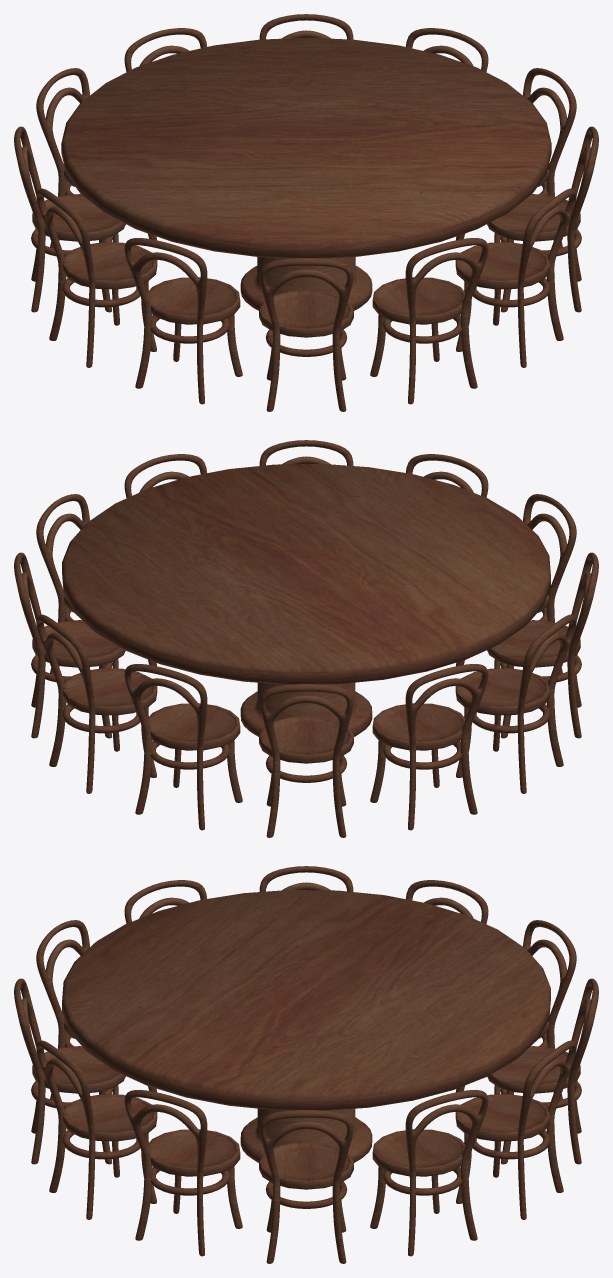
File: FullTable.fbx
The picture shows the model from 3 angles, top to bottom: view 1: azimuth 30°, elevation 25°; view 2: azimuth 150°, elevation 25°; view 3: azimuth 270°, elevation 25°; orthographic projection.
Parts seen in each view (by area): view 1: FullTable; view 2: FullTable; view 3: FullTable.
Boxes of the visible parts, x1=… form: FullTable: x1=14, y1=14, x2=598, y2=411; FullTable: x1=14, y1=440, x2=598, y2=837; FullTable: x1=14, y1=866, x2=598, y2=1263.
Size of the model in its own units: 2.98 by 0.9009 by 2.98.
